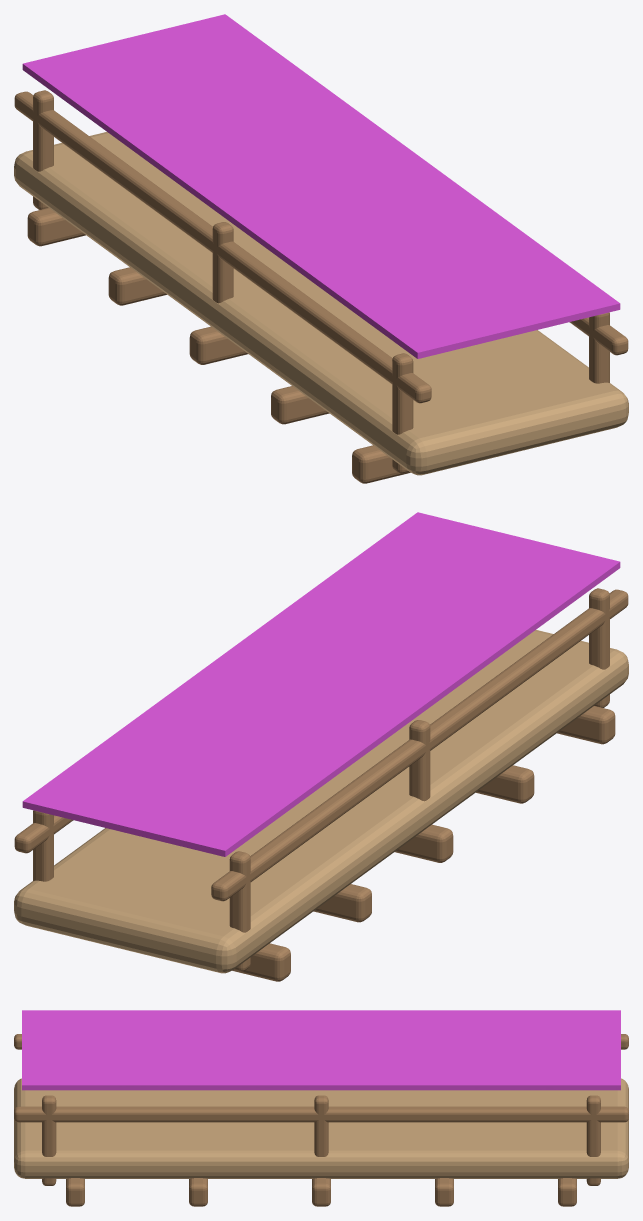
The model's file is stream_footbridge_lod0_v1.glb.
3 renders of one model, top to bottom at view 1: azimuth 30°, elevation 25°; view 2: azimuth 150°, elevation 25°; view 3: azimuth 270°, elevation 25°, orthographic. The views are drawn at different scales.
Parts seen in each view (by area): view 1: NAV_MASK_STREAM_FOOTBRIDGE, LOD0_STREAM_FOOTBRIDGE_Deck, LOD0_STREAM_FOOTBRIDGE_Rail, LOD0_STREAM_FOOTBRIDGE_Post, LOD0_STREAM_FOOTBRIDGE_CrossBeam_03, LOD0_STREAM_FOOTBRIDGE_CrossBeam_04, LOD0_STREAM_FOOTBRIDGE_CrossBeam_05, LOD0_STREAM_FOOTBRIDGE_Post.002, LOD0_STREAM_FOOTBRIDGE_CrossBeam_02, LOD0_STREAM_FOOTBRIDGE_Post.001, LOD0_STREAM_FOOTBRIDGE_CrossBeam_01, LOD0_STREAM_FOOTBRIDGE_Post.003 (+1 smaller); view 2: NAV_MASK_STREAM_FOOTBRIDGE, LOD0_STREAM_FOOTBRIDGE_Deck, LOD0_STREAM_FOOTBRIDGE_Rail, LOD0_STREAM_FOOTBRIDGE_Post.002, LOD0_STREAM_FOOTBRIDGE_CrossBeam_03, LOD0_STREAM_FOOTBRIDGE_CrossBeam_02, LOD0_STREAM_FOOTBRIDGE_CrossBeam_01, LOD0_STREAM_FOOTBRIDGE_CrossBeam_04, LOD0_STREAM_FOOTBRIDGE_Post, LOD0_STREAM_FOOTBRIDGE_Post.001, LOD0_STREAM_FOOTBRIDGE_CrossBeam_05, LOD0_STREAM_FOOTBRIDGE_Post.005 (+1 smaller); view 3: NAV_MASK_STREAM_FOOTBRIDGE, LOD0_STREAM_FOOTBRIDGE_Deck, LOD0_STREAM_FOOTBRIDGE_Rail.001, LOD0_STREAM_FOOTBRIDGE_Post.003, LOD0_STREAM_FOOTBRIDGE_Post.005, LOD0_STREAM_FOOTBRIDGE_Post.004, LOD0_STREAM_FOOTBRIDGE_CrossBeam_01, LOD0_STREAM_FOOTBRIDGE_CrossBeam_02, LOD0_STREAM_FOOTBRIDGE_CrossBeam_03, LOD0_STREAM_FOOTBRIDGE_CrossBeam_04, LOD0_STREAM_FOOTBRIDGE_CrossBeam_05.
Part boxes in pixels (bbox=[...]): NAV_MASK_STREAM_FOOTBRIDGE: bbox=[22, 14, 620, 358]; LOD0_STREAM_FOOTBRIDGE_Deck: bbox=[14, 132, 628, 475]; LOD0_STREAM_FOOTBRIDGE_Rail: bbox=[14, 91, 431, 403]; LOD0_STREAM_FOOTBRIDGE_Post: bbox=[392, 353, 413, 473]; LOD0_STREAM_FOOTBRIDGE_CrossBeam_03: bbox=[189, 326, 247, 364]; LOD0_STREAM_FOOTBRIDGE_CrossBeam_04: bbox=[108, 267, 166, 305]; LOD0_STREAM_FOOTBRIDGE_CrossBeam_05: bbox=[27, 208, 85, 246]; LOD0_STREAM_FOOTBRIDGE_Post.002: bbox=[33, 90, 53, 209]; LOD0_STREAM_FOOTBRIDGE_CrossBeam_02: bbox=[271, 386, 329, 424]; LOD0_STREAM_FOOTBRIDGE_Post.001: bbox=[212, 222, 233, 303]; LOD0_STREAM_FOOTBRIDGE_CrossBeam_01: bbox=[352, 445, 410, 483]; LOD0_STREAM_FOOTBRIDGE_Post.003: bbox=[589, 312, 609, 383]; NAV_MASK_STREAM_FOOTBRIDGE: bbox=[22, 512, 620, 856]; LOD0_STREAM_FOOTBRIDGE_Deck: bbox=[14, 630, 628, 973]; LOD0_STREAM_FOOTBRIDGE_Rail: bbox=[211, 589, 628, 901]; LOD0_STREAM_FOOTBRIDGE_Post.002: bbox=[229, 851, 250, 971]; LOD0_STREAM_FOOTBRIDGE_CrossBeam_03: bbox=[395, 824, 453, 862]; LOD0_STREAM_FOOTBRIDGE_CrossBeam_02: bbox=[476, 765, 534, 803]; LOD0_STREAM_FOOTBRIDGE_CrossBeam_01: bbox=[557, 706, 615, 744]; LOD0_STREAM_FOOTBRIDGE_CrossBeam_04: bbox=[313, 884, 371, 922]; LOD0_STREAM_FOOTBRIDGE_Post: bbox=[589, 588, 609, 707]; LOD0_STREAM_FOOTBRIDGE_Post.001: bbox=[409, 720, 430, 801]; LOD0_STREAM_FOOTBRIDGE_CrossBeam_05: bbox=[232, 943, 290, 981]; LOD0_STREAM_FOOTBRIDGE_Post.005: bbox=[33, 810, 53, 881]; NAV_MASK_STREAM_FOOTBRIDGE: bbox=[22, 1010, 620, 1090]; LOD0_STREAM_FOOTBRIDGE_Deck: bbox=[14, 1078, 628, 1178]; LOD0_STREAM_FOOTBRIDGE_Rail.001: bbox=[14, 1106, 628, 1122]; LOD0_STREAM_FOOTBRIDGE_Post.003: bbox=[42, 1095, 56, 1185]; LOD0_STREAM_FOOTBRIDGE_Post.005: bbox=[586, 1095, 600, 1185]; LOD0_STREAM_FOOTBRIDGE_Post.004: bbox=[314, 1095, 328, 1156]; LOD0_STREAM_FOOTBRIDGE_CrossBeam_01: bbox=[66, 1178, 84, 1206]; LOD0_STREAM_FOOTBRIDGE_CrossBeam_02: bbox=[189, 1178, 207, 1206]; LOD0_STREAM_FOOTBRIDGE_CrossBeam_03: bbox=[312, 1178, 330, 1206]; LOD0_STREAM_FOOTBRIDGE_CrossBeam_04: bbox=[435, 1178, 453, 1206]; LOD0_STREAM_FOOTBRIDGE_CrossBeam_05: bbox=[558, 1178, 576, 1206].
Size of what is drawn, in the model's own units: 2.55 by 1.42 by 7.
